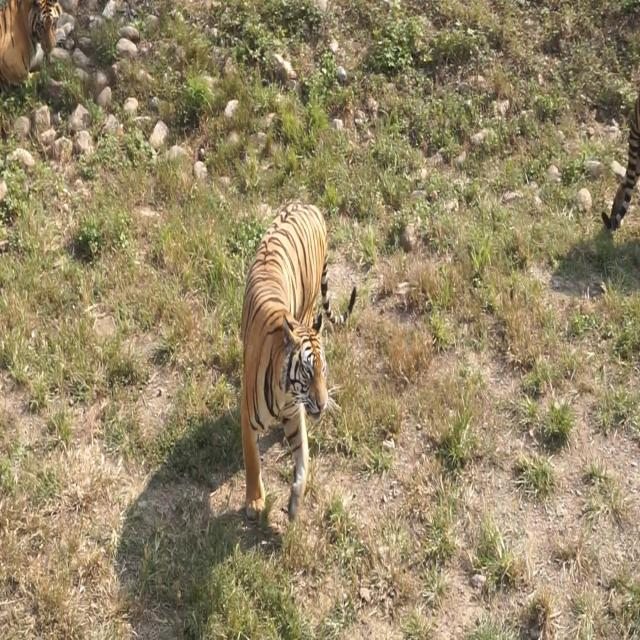Tiger: (232, 170, 348, 551)
